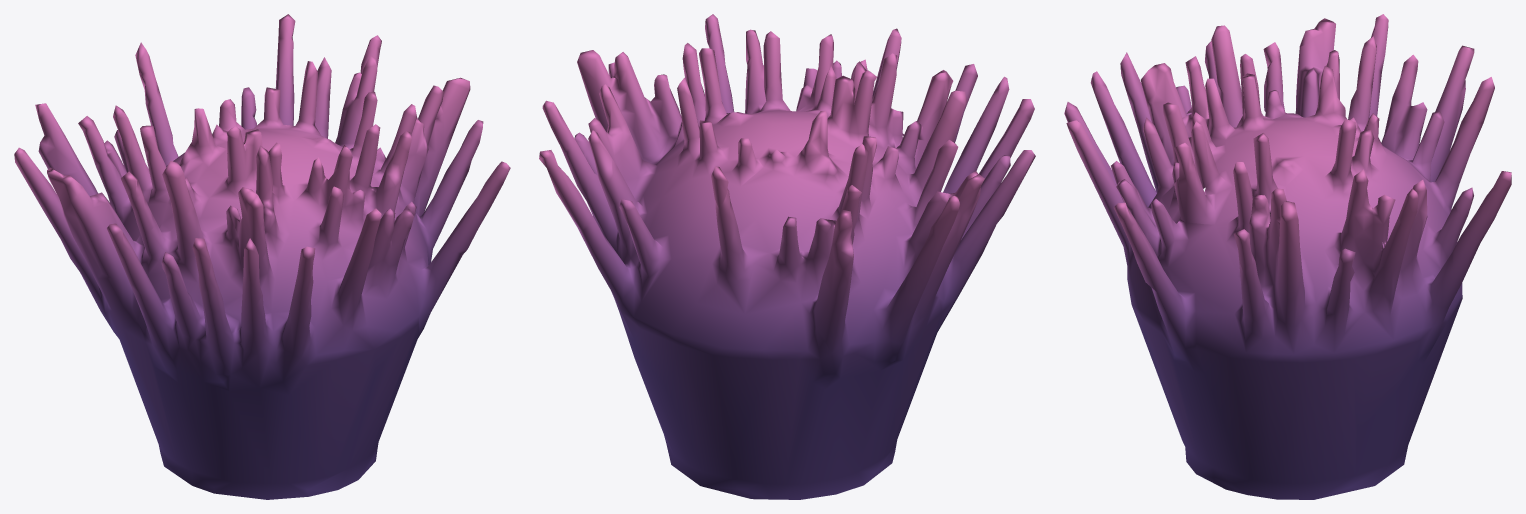
Rendered from kt_anemone_b.glb.
3 renders of one model, left to right at view 1: azimuth 30°, elevation 25°; view 2: azimuth 150°, elevation 25°; view 3: azimuth 270°, elevation 25°, orthographic. The views are drawn at different scales.
Parts seen in each view (by area): view 1: kt_anemone_b; view 2: kt_anemone_b; view 3: kt_anemone_b.
Part boxes in pixels (x1,y1,x2,y2): kt_anemone_b: (14,14,510,499); kt_anemone_b: (539,14,1035,499); kt_anemone_b: (1064,14,1511,499).
Size of the model in its own units: 0.6886 by 0.5901 by 0.6355.
